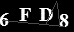6: (1, 12, 9, 27)
8: (57, 13, 70, 28)
D: (38, 7, 55, 22)
F: (18, 7, 32, 23)
